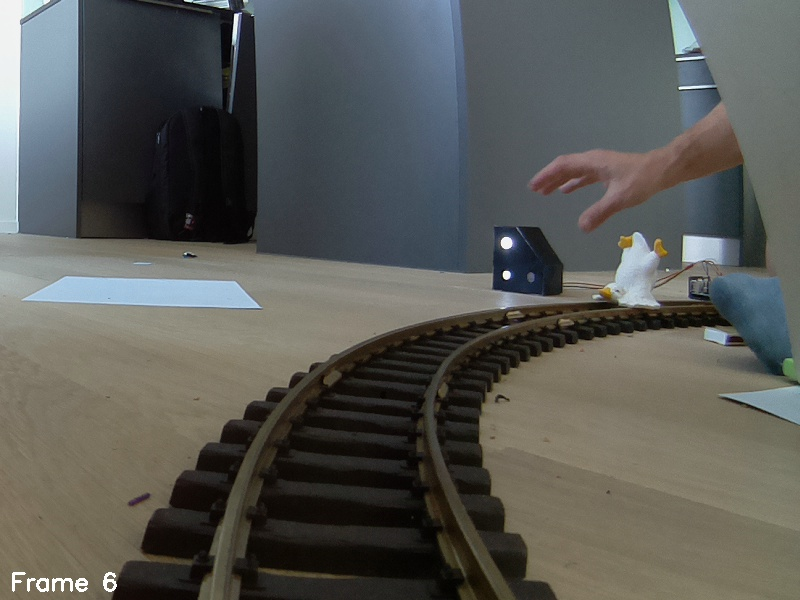Ente: (593, 226, 670, 313)
Fahrt: (492, 222, 566, 299)
